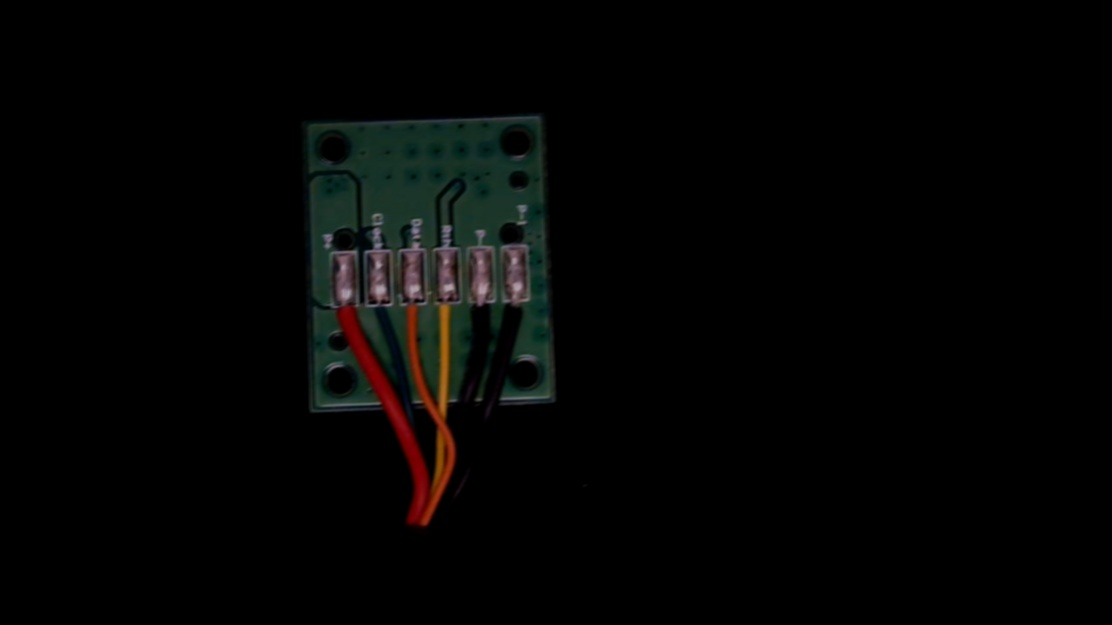Black: (469, 285, 494, 342)
Black1: (504, 284, 530, 337)
Green: (365, 286, 391, 344)
Orange: (400, 286, 424, 342)
Red: (332, 288, 362, 350)
Yellow: (434, 286, 462, 341)
